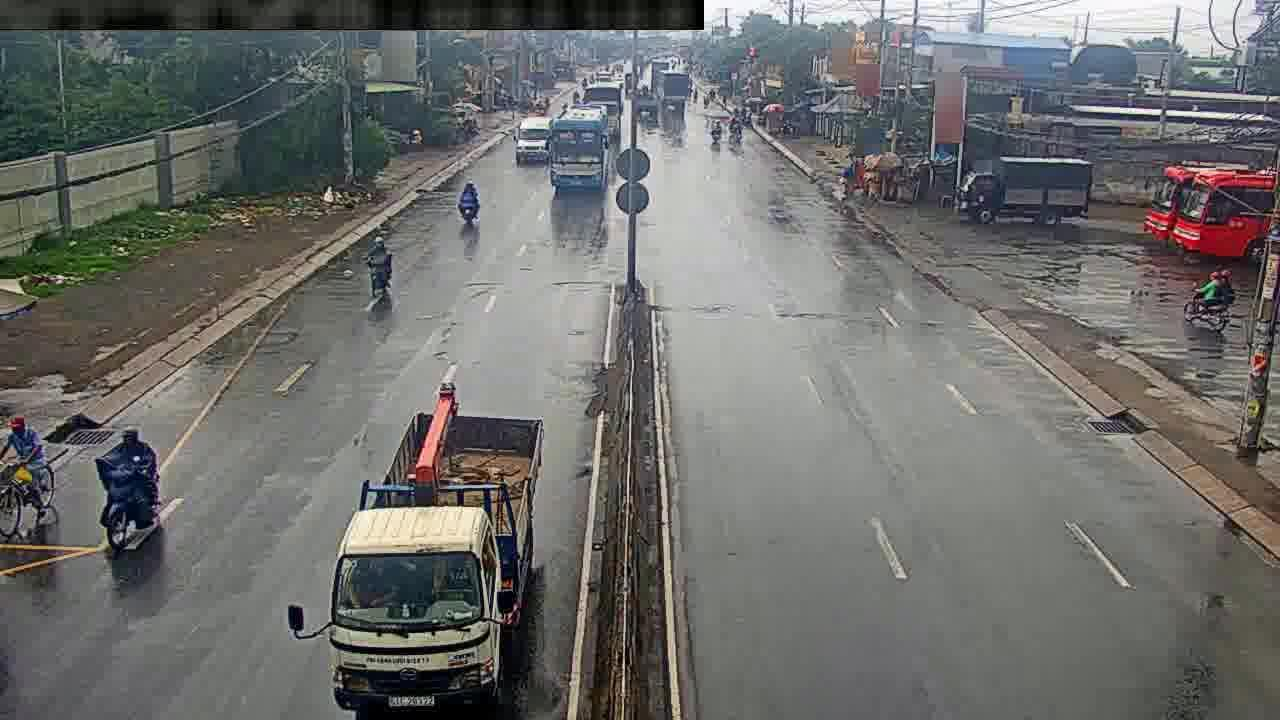container: (317, 401, 545, 705)
motorbike: (105, 419, 161, 546), (2, 428, 49, 535), (1195, 254, 1235, 332), (368, 230, 396, 299), (457, 175, 481, 232)
passenger_car: (550, 110, 608, 190), (516, 114, 551, 164)
